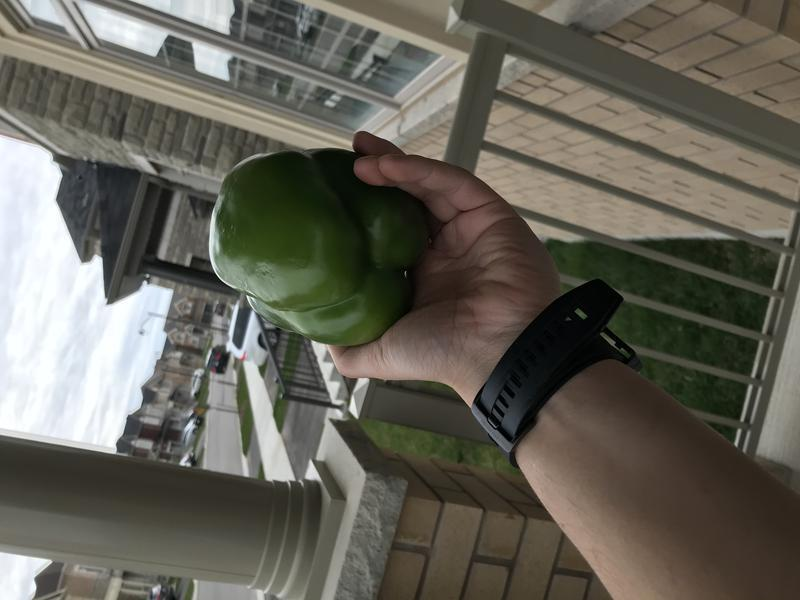green_pepper: (194, 136, 434, 347)
